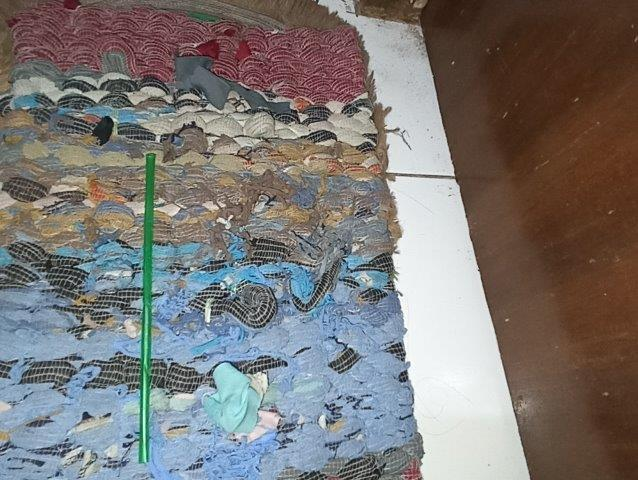sedotan: (139, 154, 155, 464)
